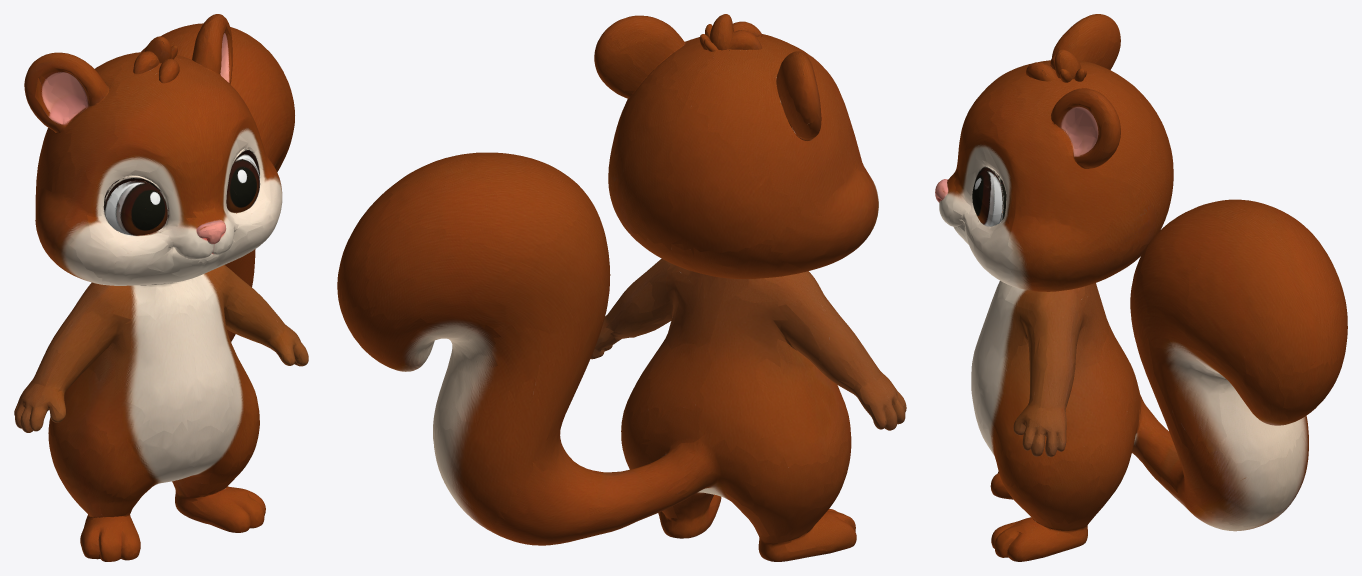
The model's file is squirrel-a.glb.
3 renders of one model, left to right at view 1: azimuth 30°, elevation 25°; view 2: azimuth 150°, elevation 25°; view 3: azimuth 270°, elevation 25°, orthographic. The views are drawn at different scales.
Size of the model in its own units: 1.6 by 1.9 by 1.5.
Materials: 1 (1 with a texture image).
